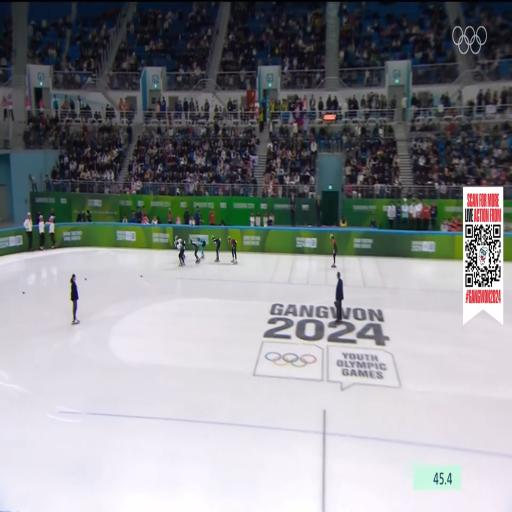Skater: (189, 238, 201, 266), (175, 236, 185, 265), (196, 236, 207, 260), (228, 237, 237, 264), (330, 234, 337, 267), (212, 236, 220, 262)
